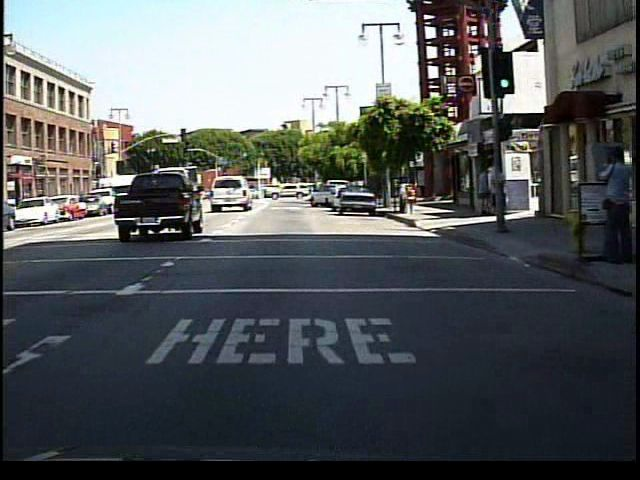person: (592, 145, 628, 265), (488, 162, 513, 230), (475, 167, 491, 218)
